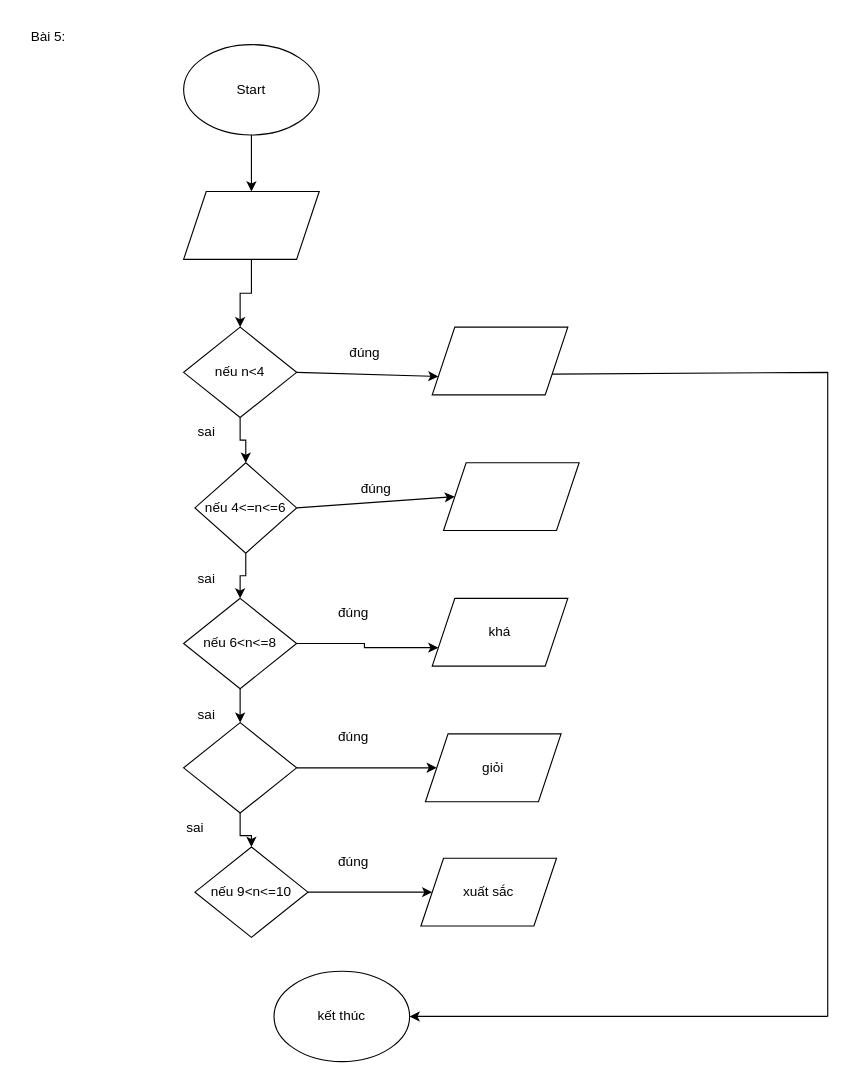
This 857x1081 diagram has some shape labels left out. The shapes that lost their labels are listed below. From the top down, each one's box as (x1, y1, x2, y2) in pixels, then its label:
(182, 190, 319, 259): nhập số điểm (n)
(431, 326, 568, 395): chưa đạt
(442, 462, 579, 531): trung bình
(182, 722, 297, 813): nếu 8<n<=9
